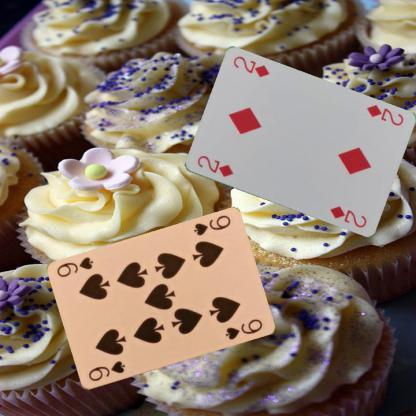2d: (194, 153, 235, 179), (364, 102, 404, 127)
9s: (190, 212, 232, 237), (85, 358, 126, 383)
